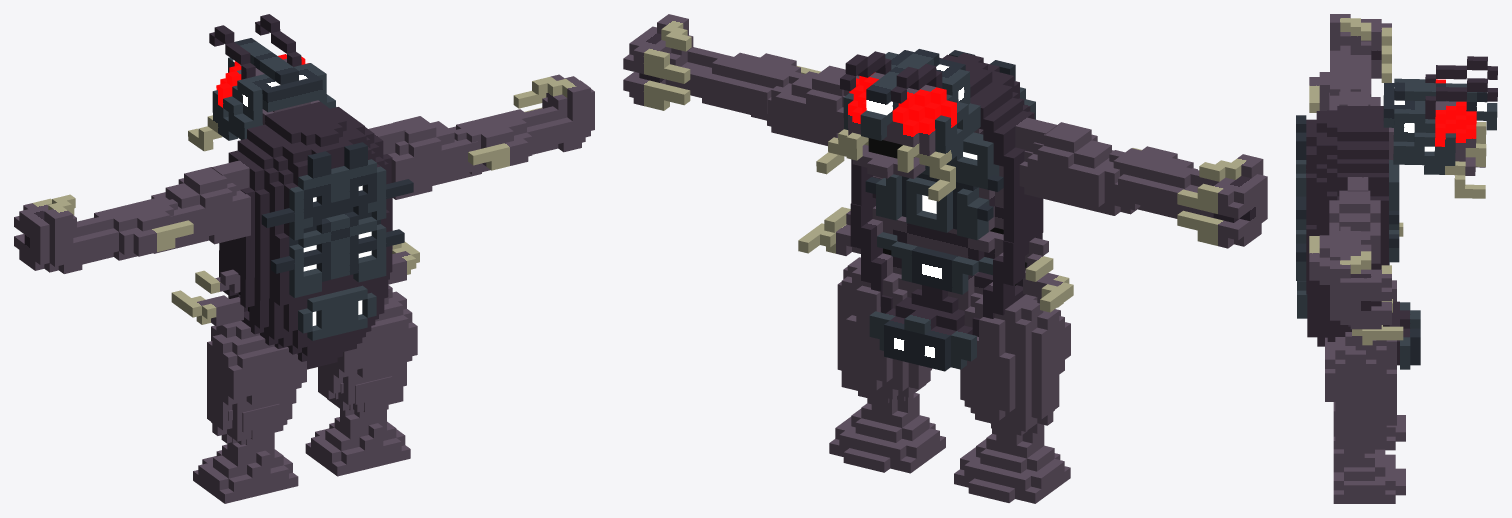
The model's file is Protector.dae.
3 views of the same model, side by side, from view 1: azimuth 30°, elevation 25°; view 2: azimuth 150°, elevation 25°; view 3: azimuth 270°, elevation 25° (orthographic). The views are drawn at different scales.
Parts seen in each view (by area): view 1: Chest-local, RWrist-local, Waist-local, Head-local, RLeg-local, LWrist-local, LLeg-local, LKnee-local, RKnee-local, RArm-local, LArm-local, REL-local (+1 smaller); view 2: Waist-local, Chest-local, Head-local, RLeg-local, RWrist-local, LWrist-local, LLeg-local, RArm-local, LKnee-local, RKnee-local, LArm-local, REL-local (+1 smaller); view 3: Chest-local, Head-local, LLeg-local, LWrist-local, RWrist-local, LKnee-local, Waist-local, LArm-local, LEL-local, RArm-local, RKnee-local.
Part boxes in pixels (x1,y1,x2,y2): Chest-local: (211, 100, 413, 305); RWrist-local: (14, 194, 193, 273); Waist-local: (219, 229, 392, 369); Head-local: (188, 14, 335, 151); RLeg-local: (207, 320, 306, 444); LWrist-local: (452, 74, 594, 174); LLeg-local: (318, 285, 417, 412); LKnee-local: (305, 376, 410, 476); RKnee-local: (193, 404, 298, 503); RArm-local: (151, 167, 250, 253); LArm-local: (388, 116, 487, 199); REL-local: (171, 269, 243, 326); Waist-local: (850, 176, 1042, 371); Chest-local: (843, 50, 1057, 253); Head-local: (816, 49, 980, 201); RLeg-local: (960, 293, 1070, 435); RWrist-local: (1109, 146, 1267, 248); LWrist-local: (623, 14, 820, 114); LLeg-local: (837, 257, 932, 403); RArm-local: (1024, 122, 1140, 215); LKnee-local: (829, 387, 945, 473); RKnee-local: (954, 417, 1070, 503); LArm-local: (751, 65, 859, 145); REL-local: (1023, 237, 1073, 312); Chest-local: (1296, 103, 1399, 298); Head-local: (1383, 56, 1497, 198); LLeg-local: (1325, 332, 1396, 453); LWrist-local: (1309, 226, 1391, 329); RWrist-local: (1309, 14, 1391, 112); LKnee-local: (1333, 402, 1405, 503); Waist-local: (1297, 224, 1420, 369); LArm-local: (1329, 190, 1380, 263); LEL-local: (1352, 299, 1403, 345); RArm-local: (1329, 91, 1380, 110); RKnee-local: (1333, 415, 1405, 450).
Bounding box in the file's own units: 60.5 × 41.94 × 19.58.
